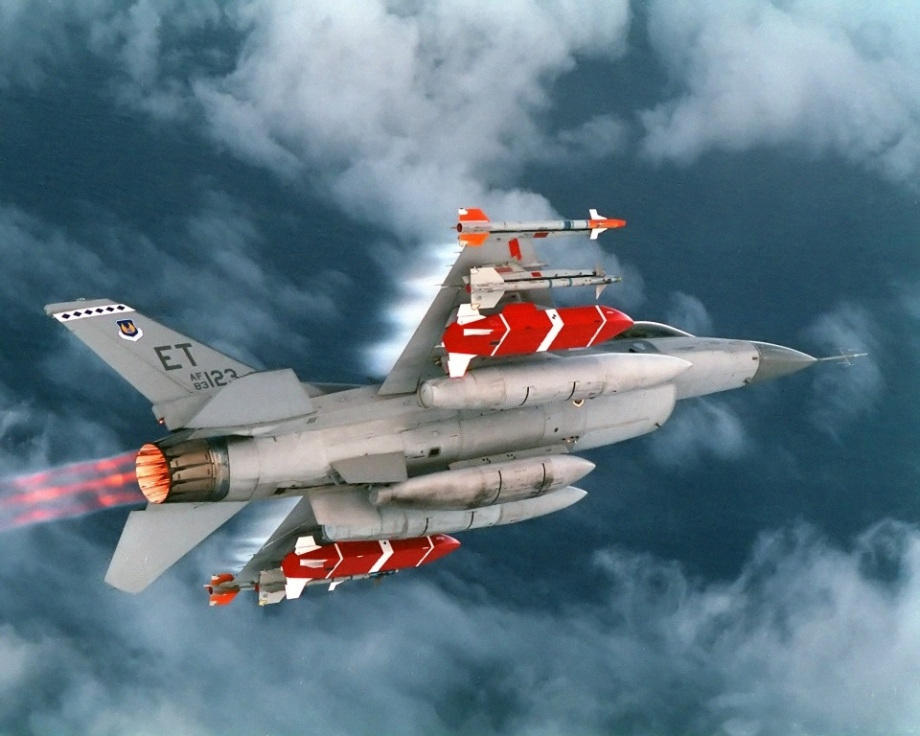airplane: (37, 217, 872, 609)
